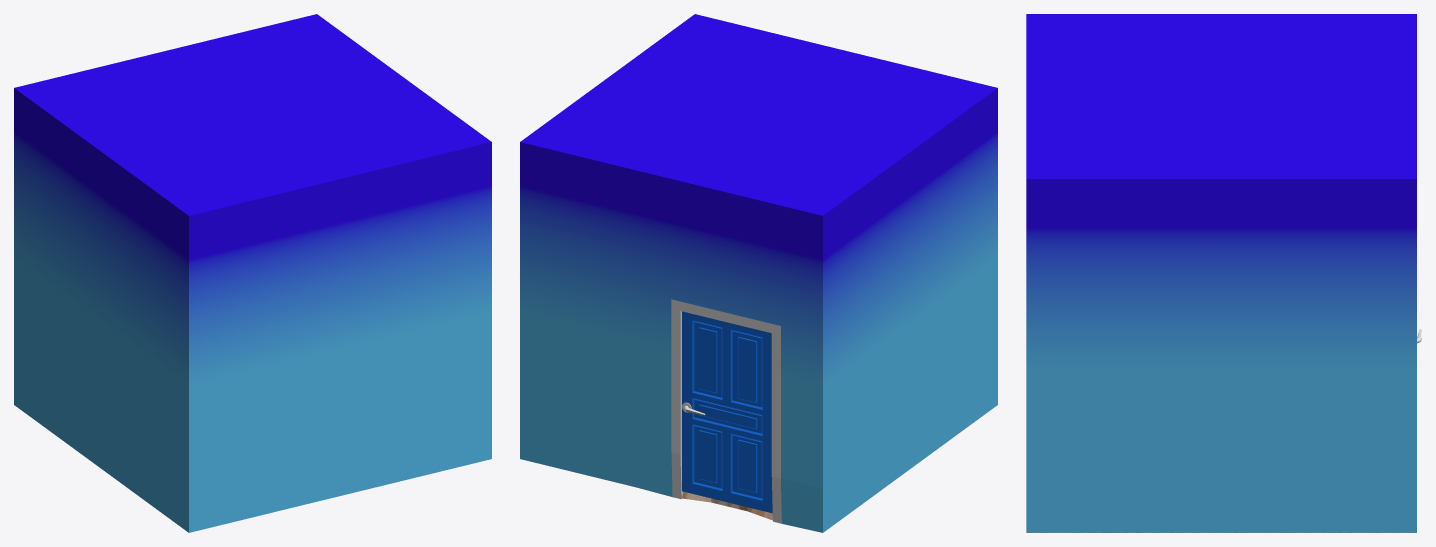
The model's file is Updated Room.fbx.
The picture shows the model from 3 angles, left to right: view 1: azimuth 30°, elevation 25°; view 2: azimuth 150°, elevation 25°; view 3: azimuth 270°, elevation 25°; orthographic projection. The views are drawn at different scales.
Parts seen in each view (by area): view 1: Room; view 2: Room, Door, Door Frame; view 3: Room.
Boxes of the visible parts, left/top/right/bottom form: Room: left=14, top=14, right=491, bottom=532; Room: left=520, top=14, right=997, bottom=532; Door: left=682, top=311, right=772, bottom=513; Door Frame: left=671, top=299, right=781, bottom=523; Room: left=1026, top=14, right=1416, bottom=532.
Size of the model in its own units: 1341 by 1349 by 1357.
Materials: 6 (3 with a texture image).
